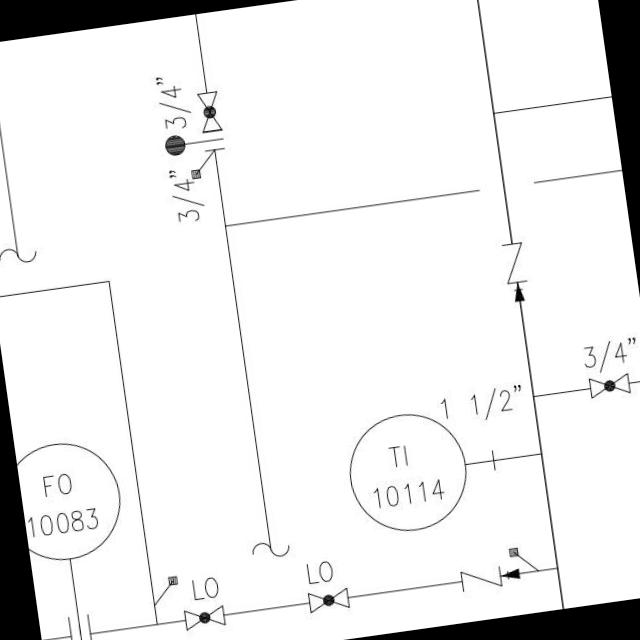BV2: (177, 601, 232, 635), (582, 368, 636, 402), (193, 86, 226, 138), (304, 584, 355, 617)
